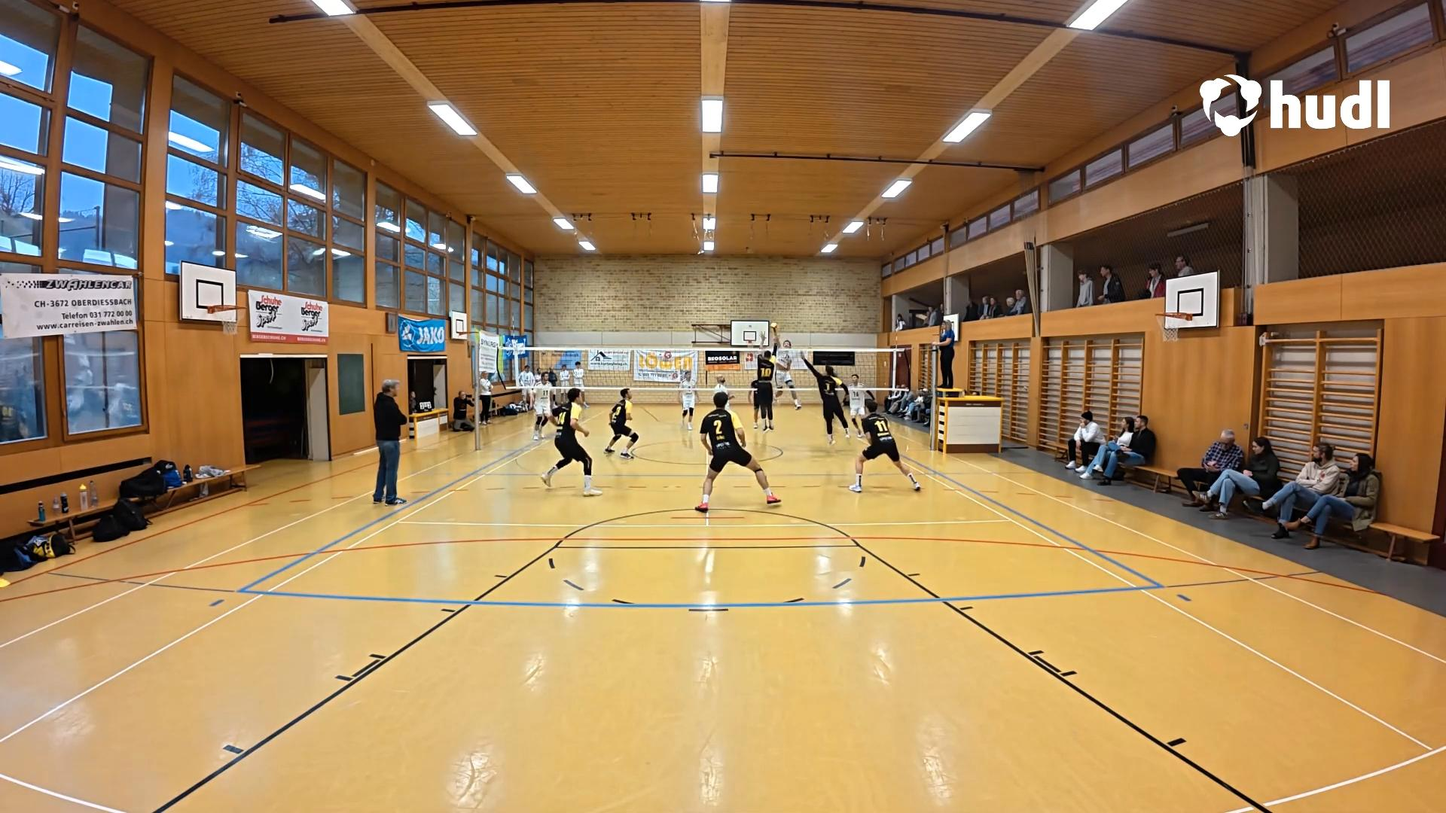attacco: (770, 321, 802, 411)
muro: (798, 348, 855, 450), (751, 331, 781, 431)
